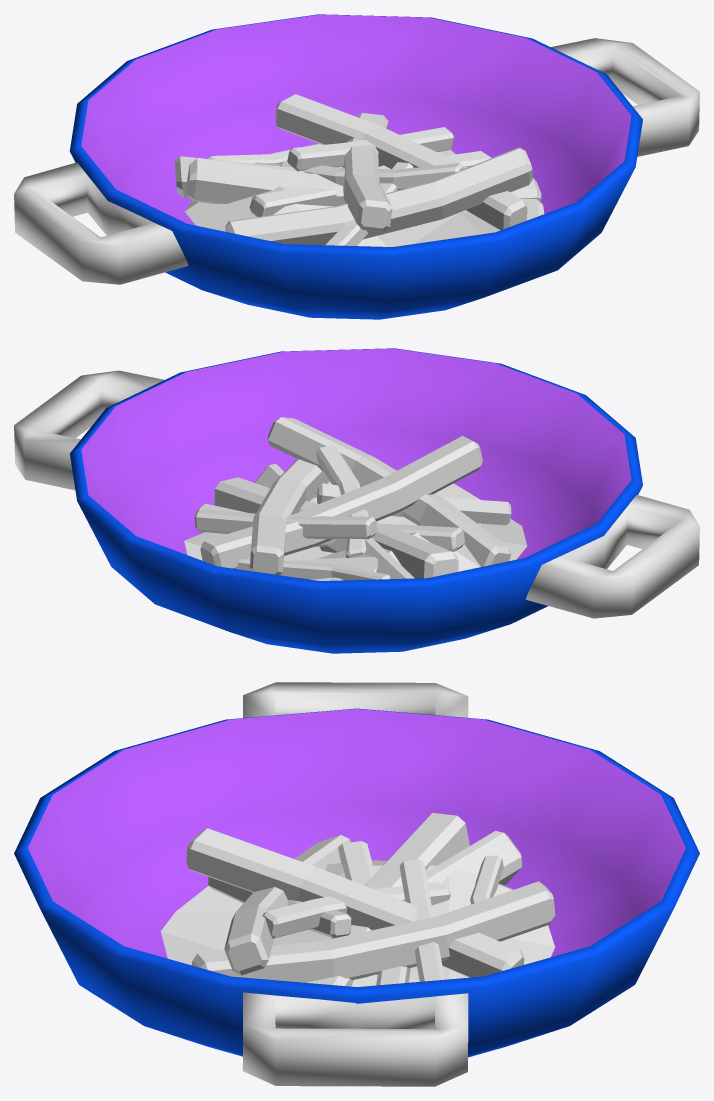
Rendered from HashBrownsWokCooked.fbx.
3 views of the same model, one above another, from view 1: azimuth 30°, elevation 25°; view 2: azimuth 150°, elevation 25°; view 3: azimuth 270°, elevation 25° (orthographic). The views are drawn at different scales.
Visible parts, largest first — view 1: Cylinder, Hash Browns.001, Cylinder.003; view 2: Cylinder, Hash Browns.001, Cylinder.003; view 3: Cylinder, Hash Browns.001, Cylinder.003.
Part boxes in pixels (<box>): Cylinder: <box>69,14,642,319</box>; Hash Browns.001: <box>174,94,544,246</box>; Cylinder.003: <box>14,38,699,284</box>; Cylinder: <box>69,348,642,653</box>; Hash Browns.001: <box>184,417,527,580</box>; Cylinder.003: <box>14,370,699,618</box>; Cylinder: <box>14,708,699,1057</box>; Hash Browns.001: <box>160,813,555,986</box>; Cylinder.003: <box>242,682,468,1086</box>.
Bounding box in the file's own units: 66.75 × 11.75 × 54.02.
